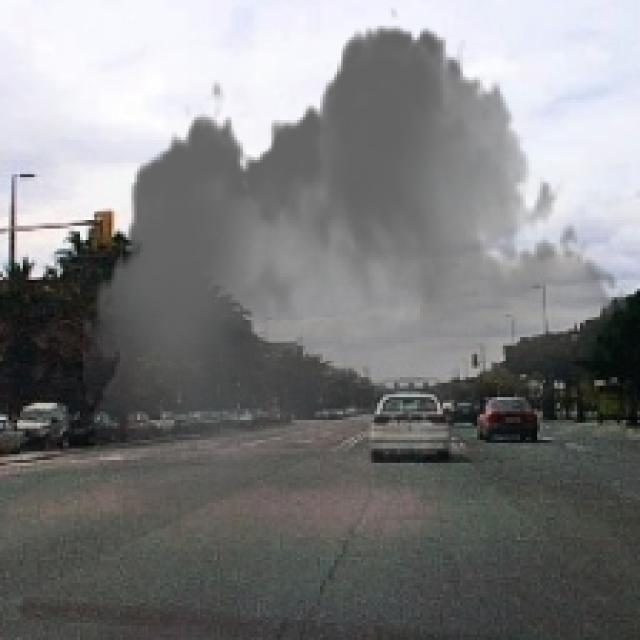Smoke: (83, 6, 632, 568)
